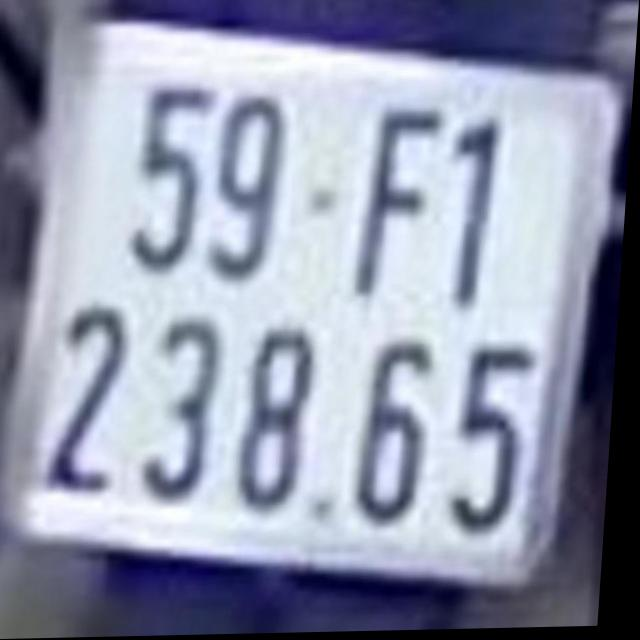1: (447, 114, 507, 312)
2: (57, 298, 141, 495)
3: (154, 318, 220, 496)
5: (456, 341, 543, 536), (131, 69, 215, 269)
6: (364, 337, 444, 530)
8: (245, 325, 321, 514)
9: (213, 87, 291, 282)
F: (362, 104, 445, 301)
